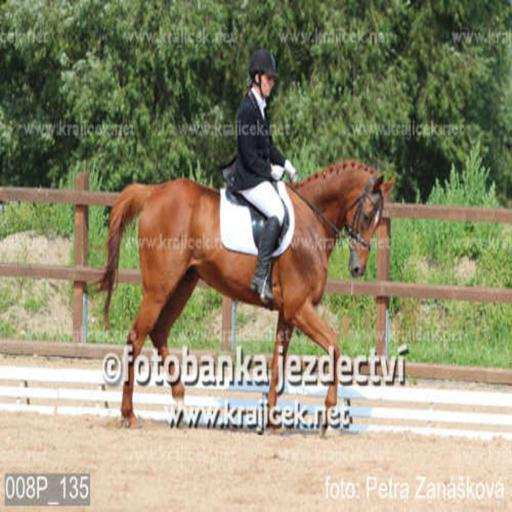horse: (82, 156, 396, 430)
